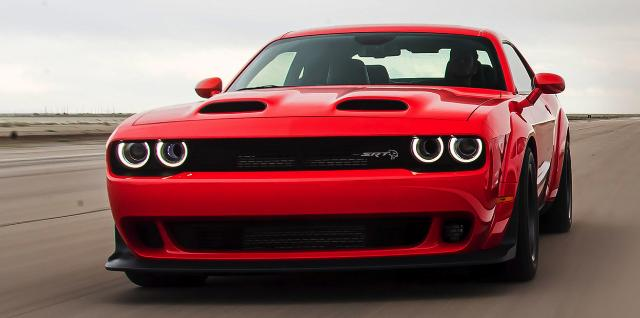dodge: (104, 23, 574, 281)
